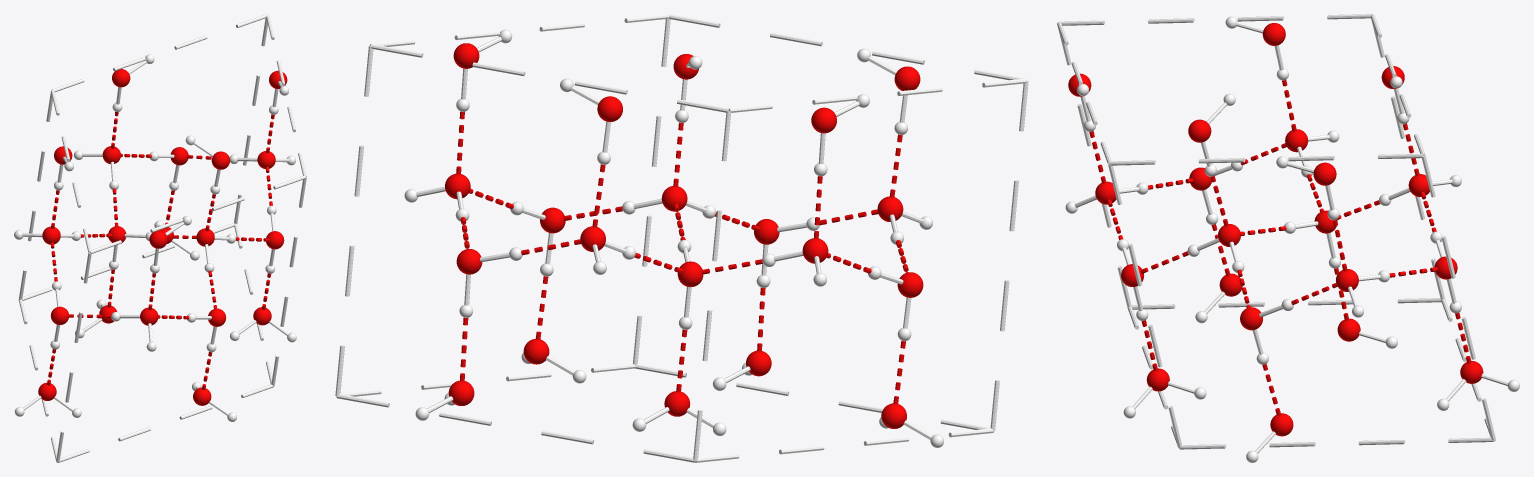
File: Eis.glb
3 views of the same model, side by side, from view 1: azimuth 30°, elevation 25°; view 2: azimuth 150°, elevation 25°; view 3: azimuth 270°, elevation 25° (orthographic). The views are drawn at different scales.
Size of the model in its own units: 10.61 by 8.7 by 10.21.
